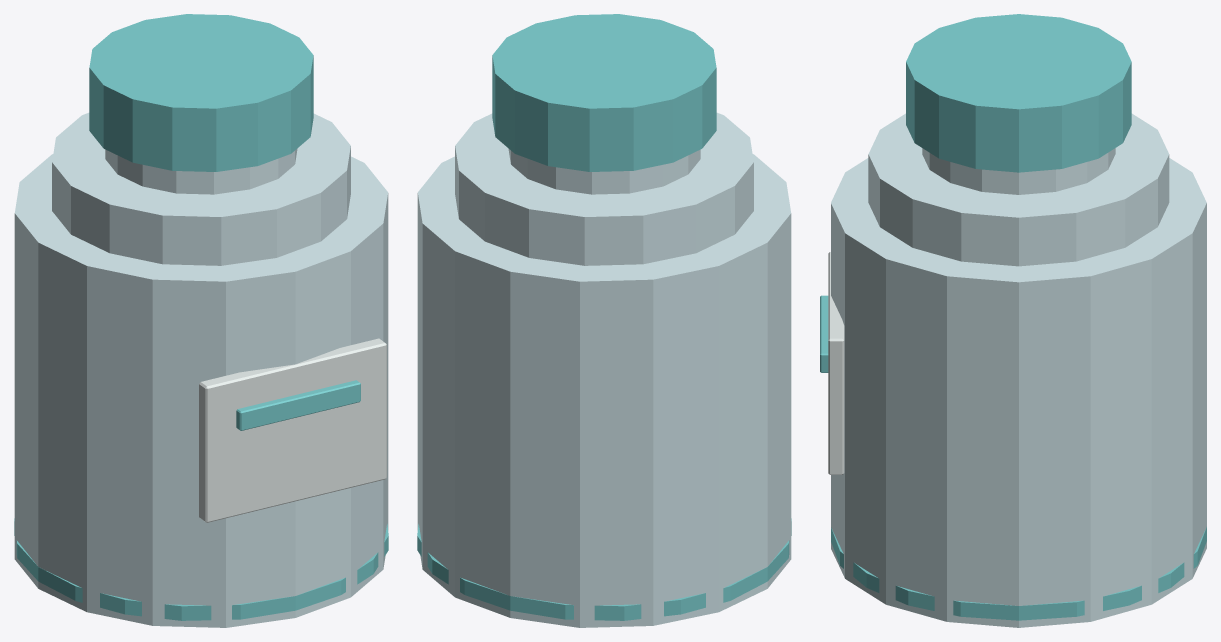
File: chem_bottle.glb
The picture shows the model from 3 angles, left to right: view 1: azimuth 30°, elevation 25°; view 2: azimuth 150°, elevation 25°; view 3: azimuth 270°, elevation 25°; orthographic projection.
Visible parts, largest first — view 1: Glass body, Cap, Shoulder, Medicine label, Foot.002, Neck, Dose stripe; view 2: Glass body, Cap, Shoulder, Foot.002, Neck; view 3: Glass body, Cap, Shoulder, Foot.002, Neck, Medicine label, Dose stripe.
Part boxes in pixels (x1,y1,x2,y2): Glass body: [14, 154, 388, 627]; Cap: [89, 14, 313, 171]; Shoulder: [52, 112, 350, 265]; Medicine label: [199, 338, 386, 522]; Foot.002: [14, 518, 388, 620]; Neck: [105, 148, 297, 194]; Dose stripe: [236, 380, 360, 430]; Glass body: [417, 154, 791, 627]; Cap: [492, 14, 716, 171]; Shoulder: [455, 112, 753, 265]; Foot.002: [417, 518, 791, 620]; Neck: [508, 148, 700, 194]; Glass body: [831, 158, 1206, 627]; Cap: [906, 14, 1131, 172]; Shoulder: [868, 113, 1169, 266]; Foot.002: [831, 527, 1206, 620]; Neck: [922, 148, 1115, 194]; Medicine label: [828, 252, 844, 474]; Dose stripe: [820, 295, 828, 372].
Size of the model in its own units: 0.07 by 0.1 by 0.072.
